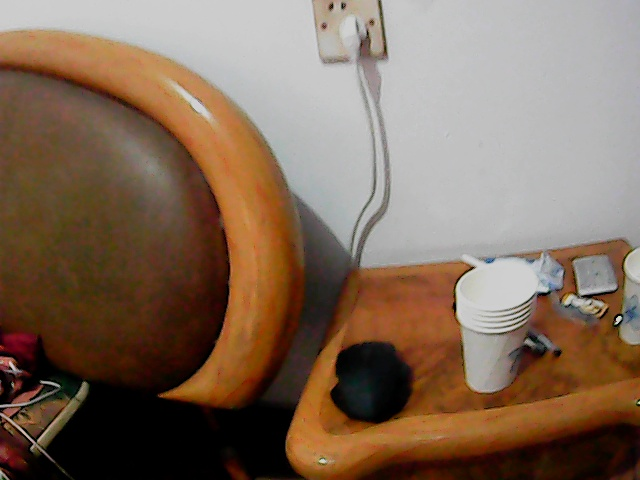cup: (453, 262, 531, 394)
mouse: (327, 336, 414, 425)
